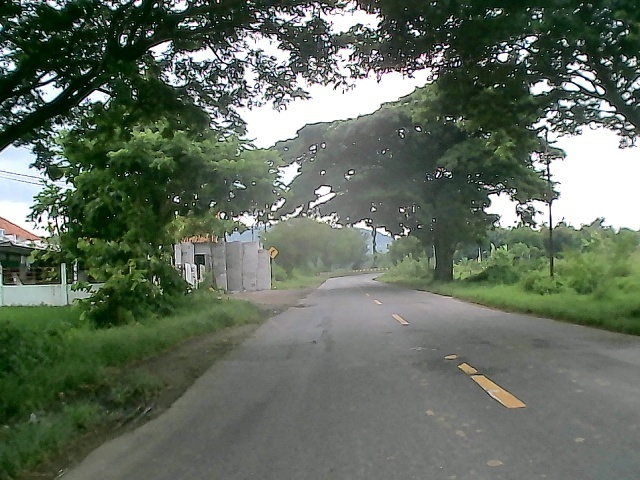Tikungan ke kanan: (268, 245, 279, 259)
